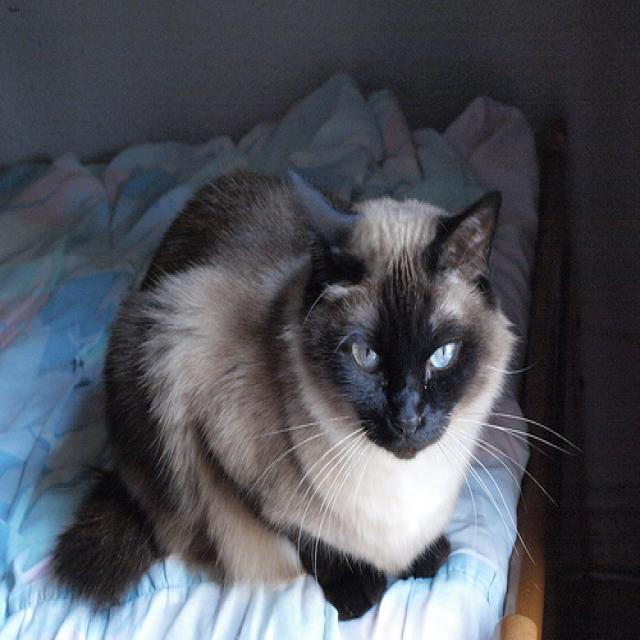Siamese: (271, 165, 518, 469)
